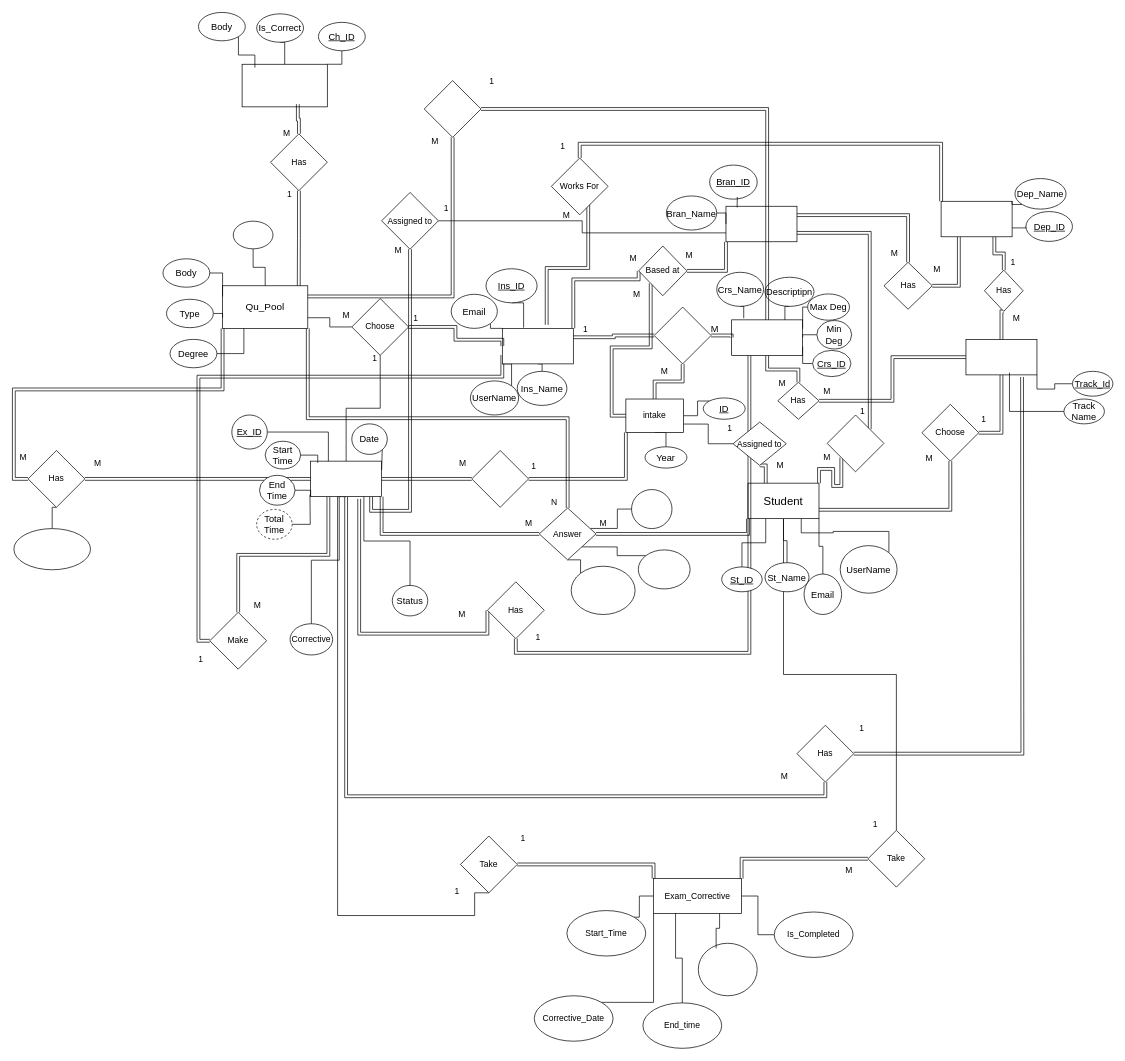
Image size: 1125x1061. Some labels were removed from this diagram. The centre of each missing label's shape, as x and y in pixels:
"Answer_ch_ID" belongs at [602,590].
"Answer_TF" belongs at [664,569].
"Branch" belongs at [761,224].
"Choices" belongs at [284,85].
"Corrective_ID" belongs at [727,969].
"Course" belongs at [767,337].
"Department" belongs at [976,219].
"Exam" belongs at [346,478].
"Include" belongs at [500,478].
"Instructor" belongs at [537,346].
"IS Added" belongs at [452,108].
"Located" belongs at [855,443].
"Qu_ID" belongs at [253,234].
"Question_Order" belongs at [52,549].
"Score" belongs at [651,509].
"Teaches" belongs at [682,335].
"Track" belongs at [1001,357].
